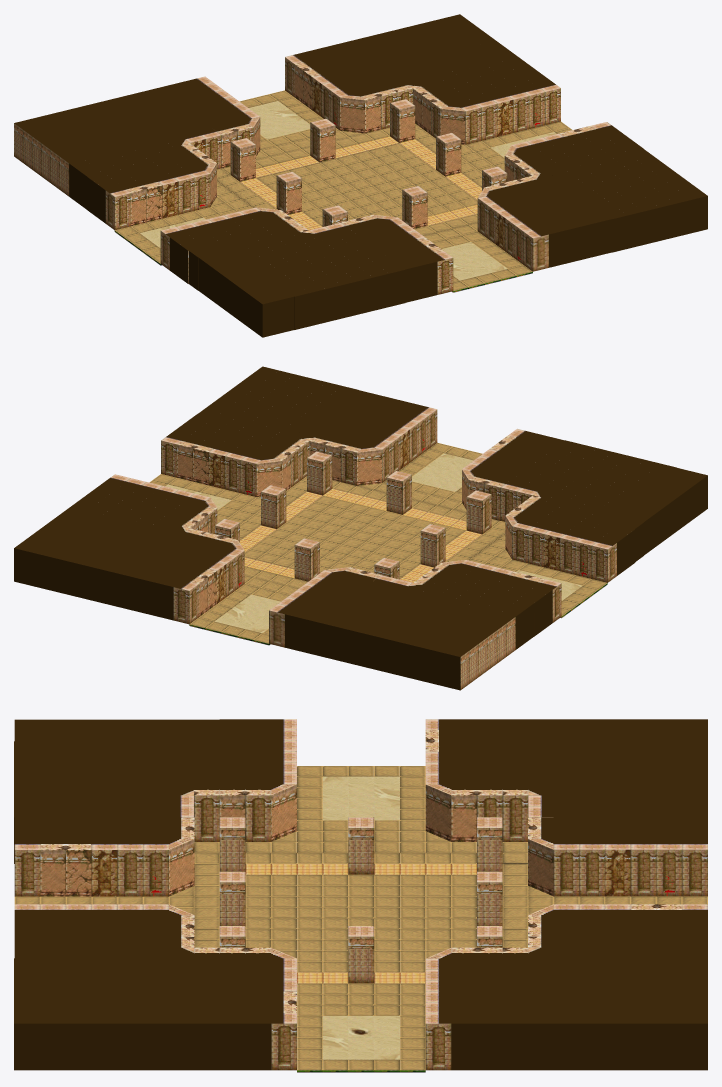
Rendered from SandStone.fbx.
3 renders of one model, top to bottom at view 1: azimuth 30°, elevation 25°; view 2: azimuth 150°, elevation 25°; view 3: azimuth 270°, elevation 25°, orthographic. The views are drawn at different scales.
Parts seen in each view (by area): view 1: Cube.040, Cube.104, Cube.414, Cube.005, Cube.129, Cube.335, Cube.569, Cube.120, Cube.112, Cube.276, Cube.069, Cube.354 (+35 smaller); view 2: Cube.223, Cube.128, Cube.112, Cube.007, Cube.736, Cube.040, Cube.120, Cube.104, Cube.438, Cube.342, Cube.015, Cube.712 (+35 smaller); view 3: Cube.543, Cube.520, Cube.532, Cube.290, Cube.291, Cube.356, Cube.429, Cube.120, Cube.087, Cube.240, Cube.040, Cube.678 (+40 smaller).
Boxes of the visible parts, <box> form: Cube.040: <box>436,133,461,176</box>; Cube.104: <box>310,118,335,162</box>; Cube.414: <box>105,186,130,230</box>; Cube.005: <box>390,99,415,142</box>; Cube.129: <box>230,138,255,181</box>; Cube.335: <box>523,228,548,271</box>; Cube.569: <box>253,294,278,337</box>; Cube.120: <box>276,171,301,214</box>; Cube.112: <box>402,186,427,228</box>; Cube.276: <box>340,93,364,133</box>; Cube.069: <box>440,105,465,144</box>; Cube.354: <box>396,259,421,302</box>; Cube.223: <box>173,580,198,624</box>; Cube.128: <box>466,490,491,534</box>; Cube.112: <box>386,471,411,514</box>; Cube.007: <box>307,451,332,495</box>; Cube.736: <box>444,646,469,690</box>; Cube.040: <box>261,485,286,528</box>; Cube.120: <box>420,524,445,567</box>; Cube.104: <box>294,538,319,581</box>; Cube.438: <box>592,539,616,582</box>; Cube.342: <box>357,446,381,485</box>; Cube.015: <box>256,457,281,497</box>; Cube.712: <box>428,642,453,686</box>; Cube.543: <box>65,1012,91,1070</box>; Cube.520: <box>142,1012,168,1070</box>; Cube.532: <box>39,1012,65,1070</box>; Cube.290: <box>117,839,143,896</box>; Cube.291: <box>91,839,117,896</box>; Cube.356: <box>14,839,40,896</box>; Cube.429: <box>245,784,271,841</box>; Cube.120: <box>348,817,374,874</box>; Cube.087: <box>219,1013,245,1070</box>; Cube.240: <box>630,839,656,896</box>; Cube.040: <box>348,926,374,983</box>; Cube.678: <box>630,1013,656,1070</box>.
Bounding box in the file's own units: 2801 × 210 × 2698.
Materials: 764 (764 with a texture image).
